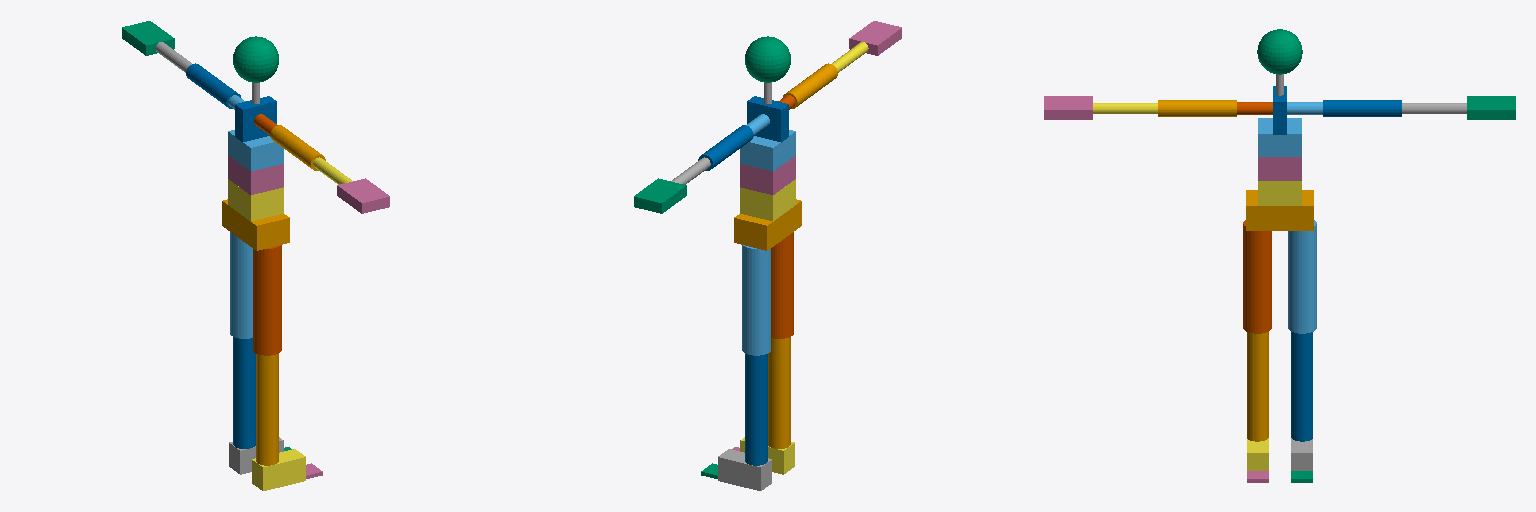
--- Facts derived from the render (not from the file) ---
3 views of the same robot in one strip: view 1: azimuth 30°, elevation 25°; view 2: azimuth 150°, elevation 25°; view 3: azimuth 270°, elevation 25° (orthographic).
Model XSensStyleModel_template with 67 links and 66 joints (66 revolute), rooted at Pelvis, posed all joints at 0.
Links seen in each view (by area): view 1: RightUpperLeg, RightLowerLeg, LeftLowerLeg, LeftUpperLeg, Pelvis, Head, RightFoot, T12, L5, L3, T8, RightHand (+4 smaller); view 2: LeftUpperLeg, LeftLowerLeg, RightLowerLeg, RightUpperLeg, Pelvis, Head, LeftFoot, T12, L5, L3, T8, LeftHand (+4 smaller); view 3: RightUpperLeg, LeftUpperLeg, RightLowerLeg, LeftLowerLeg, Pelvis, Head, T12, RightUpperArm, LeftUpperArm, RightHand, LeftHand, L5 (+6 smaller).
Link boxes in pixels (<box>): RightUpperLeg: <box>253,245,281,355</box>; RightLowerLeg: <box>256,354,278,465</box>; LeftLowerLeg: <box>233,337,255,448</box>; LeftUpperLeg: <box>230,232,252,338</box>; Pelvis: <box>222,199,289,250</box>; Head: <box>233,36,278,82</box>; RightFoot: <box>252,449,305,490</box>; T12: <box>228,130,283,171</box>; L5: <box>228,179,283,221</box>; L3: <box>228,155,283,194</box>; T8: <box>235,96,276,142</box>; RightHand: <box>337,178,389,213</box>; LeftUpperLeg: <box>742,245,770,355</box>; LeftLowerLeg: <box>745,354,767,465</box>; RightLowerLeg: <box>768,337,790,448</box>; RightUpperLeg: <box>771,232,793,338</box>; Pelvis: <box>734,199,801,250</box>; Head: <box>745,36,790,82</box>; LeftFoot: <box>718,449,771,490</box>; T12: <box>740,130,795,171</box>; L5: <box>740,179,795,221</box>; L3: <box>740,155,795,194</box>; T8: <box>747,96,788,142</box>; LeftHand: <box>634,178,686,213</box>; RightUpperLeg: <box>1243,220,1271,333</box>; LeftUpperLeg: <box>1288,220,1316,333</box>; RightLowerLeg: <box>1247,332,1268,441</box>; LeftLowerLeg: <box>1291,332,1312,441</box>; Pelvis: <box>1246,190,1313,230</box>; Head: <box>1257,29,1302,74</box>; T12: <box>1258,118,1301,156</box>; RightUpperArm: <box>1158,100,1236,116</box>; LeftUpperArm: <box>1323,100,1401,116</box>; RightHand: <box>1044,96,1092,119</box>; LeftHand: <box>1467,96,1515,119</box>; L5: <box>1258,181,1301,205</box>.
Size in the robot's own frame: 0.2804 by 1.67 by 1.68 metres.
Geometry: primitives only (box / cylinder / sphere), no mesh files.

The robot description file, URDF, robot "XSensStyleModel_template":
<robot name="XSensStyleModel_template">
<!--To open this model with Gazebo replace the null masses, inertias and dimensions of the 'fake links f1 and f2'-->
    <!--LINKS-->
	<!--Link base (1)-->
	<link name="Pelvis">
        <inertial>
            <mass value="4.9977"/>
			<!--COM origin wrt pHipOrigin-->
            <origin xyz="0           0    0.048589" rpy="0 0 0" />
            <inertia ixx="0.027785" iyy="0.011362" izz="0.031399" ixy="0" ixz="0" iyz="0"/>
        </inertial>

        <visual>
			<!--box origin wrt pHipOrigin-->
            <origin xyz="0           0    0.048589" rpy="0 0 0" />
            <geometry>
                <box size="0.13409     0.23961    0.096443"/>
            </geometry>
        </visual>

        <collision>
			<!--box origin wrt pHipOrigin-->
            <origin xyz="0           0    0.048589" rpy="0 0 0" />
            <geometry>
                <box size="0.13409     0.23961    0.096443"/>
            </geometry>
        </collision>

    </link>
    <!--Chain from (2) to (7)-->
	<link name="L5_f1">
        <inertial>
            <mass value="0.0001"/>
            <origin xyz="0 0 0" rpy="0 0 0" />
            <inertia ixx="0.0003" iyy="0.0003" izz="0.0003" ixy="0" ixz="0" iyz="0"/>
        </inertial>
    </link>
	<link name="L5_f2">
        <inertial>
            <mass value="0.0001"/>
            <origin xyz="0 0 0" rpy="0 0 0" />
            <inertia ixx="0.0003" iyy="0.0003" izz="0.0003" ixy="0" ixz="0" iyz="0"/>
        </inertial>
    </link>
	<link name="L5">
        <inertial>
            <mass value="6.3721"/>
			<!--COM origin wrt jL5S1-->
            <origin xyz="0           0    0.050322" rpy="0 0 0" />
            <inertia ixx="0.045364" iyy="0.034022" izz="0.067685" ixy="0" ixz="0" iyz="0"/>
        </inertial>

        <visual>
			<!--box origin origin wrt jL5S1-->
            <origin xyz="0           0    0.050322" rpy="0 0 0" />
            <geometry>
                <box size="0.13409     0.15843     0.10065"/>
            </geometry>
        </visual>

        <collision>
			<!--box origin origin wrt jL5S1-->
            <origin xyz="0           0    0.050322" rpy="0 0 0" />
            <geometry>
                <box size="0.13409     0.15843     0.10065"/>
            </geometry>
        </collision>
    </link>
	<link name="L3_f1">
        <inertial>
            <mass value="0.0001"/>
            <origin xyz="0 0 0" rpy="0 0 0" />
            <inertia ixx="0.0003" iyy="0.0003" izz="0.0003" ixy="0" ixz="0" iyz="0"/>
        </inertial>
    </link>
	<link name="L3_f2">
        <inertial>
            <mass value="0.0001"/>
            <origin xyz="0 0 0" rpy="0 0 0" />
            <inertia ixx="0.0003" iyy="0.0003" izz="0.0003" ixy="0" ixz="0" iyz="0"/>
        </inertial>
    </link>
	<link name="L3">
        <inertial>
            <mass value="6.3721"/>
			<!--COM origin wrt jL4L3-->
            <origin xyz="0           0    0.045465" rpy="0 0 0" />
            <inertia ixx="0.044375" iyy="0.033034" izz="0.067685" ixy="0" ixz="0" iyz="0"/>
        </inertial>

        <visual>
			<!--box origin origin wrt jL4L3-->
            <origin xyz="0           0    0.045465" rpy="0 0 0" />
            <geometry>
                <box size="0.13409     0.15843     0.09093"/>
            </geometry>
        </visual>

        <collision>
			<!--box origin origin wrt jL4L3-->
            <origin xyz="0           0    0.045465" rpy="0 0 0" />
            <geometry>
                <box size="0.13409     0.15843     0.09093"/>
            </geometry>
        </collision>
    </link>
	<link name="T12_f1">
        <inertial>
            <mass value="0.0001"/>
            <origin xyz="0 0 0" rpy="0 0 0" />
            <inertia ixx="0.0003" iyy="0.0003" izz="0.0003" ixy="0" ixz="0" iyz="0"/>
        </inertial>
    </link>
	<link name="T12_f2">
        <inertial>
            <mass value="0.0001"/>
            <origin xyz="0 0 0" rpy="0 0 0" />
            <inertia ixx="0.0003" iyy="0.0003" izz="0.0003" ixy="0" ixz="0" iyz="0"/>
        </inertial>
    </link>
	<link name="T12">
        <inertial>
            <mass value="6.3721"/>
			<!--COM origin wrt jL1T12-->
            <origin xyz="0           0    0.045465" rpy="0 0 0" />
            <inertia ixx="0.044375" iyy="0.033034" izz="0.067685" ixy="0" ixz="0" iyz="0"/>
        </inertial>

        <visual>
			<!--box origin origin wrt jL1T12-->
            <origin xyz="0           0    0.045465" rpy="0 0 0" />
            <geometry>
                <box size="0.13409     0.15843     0.09093"/>
            </geometry>
        </visual>

        <collision>
			<!--box origin origin wrt jL1T12-->
            <origin xyz="0           0    0.045465" rpy="0 0 0" />
            <geometry>
                <box size="0.13409     0.15843     0.09093"/>
            </geometry>
        </collision>
    </link>
	<link name="T8_f1">
        <inertial>
            <mass value="0.0001"/>
            <origin xyz="0 0 0" rpy="0 0 0" />
            <inertia ixx="0.0003" iyy="0.0003" izz="0.0003" ixy="0" ixz="0" iyz="0"/>
        </inertial>
    </link>
	<link name="T8_f2">
        <inertial>
            <mass value="0.0001"/>
            <origin xyz="0 0 0" rpy="0 0 0" />
            <inertia ixx="0.0003" iyy="0.0003" izz="0.0003" ixy="0" ixz="0" iyz="0"/>
        </inertial>
    </link>
	<link name="T8">
        <inertial>
            <mass value="2.4989"/>
			<!--COM origin wrt jT9T8-->
            <origin xyz="0           0    0.062885" rpy="0 0 0" />
            <inertia ixx="0.0038682" iyy="0.0072774" izz="0.0045577" ixy="0" ixz="0" iyz="0"/>
        </inertial>

        <visual>
			<!--box origin wrt jT9T8-->
            <origin xyz="0           0    0.062885" rpy="0 0 0" />
            <geometry>
                <box size="0.13831    0.052514     0.12577"/>
            </geometry>
        </visual>

        <collision>
			<!--box origin wrt jT9T8-->
            <origin xyz="0           0    0.062885" rpy="0 0 0" />
            <geometry>
                <box size="0.13831    0.052514     0.12577"/>
            </geometry>
        </collision>

    </link>
	<link name="Neck_f1">
        <inertial>
            <mass value="0.0001"/>
            <origin xyz="0 0 0" rpy="0 0 0" />
            <inertia ixx="0.0003" iyy="0.0003" izz="0.0003" ixy="0" ixz="0" iyz="0"/>
        </inertial>
    </link>
	<link name="Neck_f2">
        <inertial>
            <mass value="0.0001"/>
            <origin xyz="0 0 0" rpy="0 0 0" />
            <inertia ixx="0.0003" iyy="0.0003" izz="0.0003" ixy="0" ixz="0" iyz="0"/>
        </inertial>
    </link>
	<link name="Neck">
        <inertial>
            <mass value="0.74966"/>
			<!--COM origin wrt jT1C7-->
            <origin xyz="0           0    0.042348" rpy="0 0 0" />
            <inertia ixx="0.00058963" iyy="0.00058963" izz="0.00028299" ixy="0" ixz="0" iyz="0"/>
        </inertial>

        <visual>
			<!--box origin wrt jT1C7-->
            <origin xyz="0           0    0.042348" rpy="0 0 0" />
            <geometry>
		<cylinder length="0.084696" radius="0.013739"/>
            </geometry>
        </visual>

        <collision>
			<!--box origin wrt jT1C7-->
            <origin xyz="0           0    0.042348" rpy="0 0 0" />
            <geometry>
                <cylinder length="0.084696" radius="0.013739"/>
            </geometry>
        </collision>
    </link>
	<link name="Head_f1">
        <inertial>
            <mass value="0.0001"/>
            <origin xyz="0 0 0" rpy="0 0 0" />
            <inertia ixx="0.0003" iyy="0.0003" izz="0.0003" ixy="0" ixz="0" iyz="0"/>
        </inertial>
    </link>
	<link name="Head_f2">
        <inertial>
            <mass value="0.0001"/>
            <origin xyz="0 0 0" rpy="0 0 0" />
            <inertia ixx="0.0003" iyy="0.0003" izz="0.0003" ixy="0" ixz="0" iyz="0"/>
        </inertial>
    </link>
	<link name="Head">
        <inertial>
            <mass value="2.249"/>
			<!--COM origin wrt jC1Head-->
            <origin xyz="0           0    0.080693" rpy="0 0 0" />
            <inertia ixx="0.0058575" iyy="0.0058575" izz="0.0058575" ixy="0" ixz="0" iyz="0"/>
        </inertial>

        <visual>
			<!--boc origin wrt jC1Head-->
            <origin xyz="0           0    0.080693" rpy="0 0 0" />
            <geometry>
                <sphere radius="0.080693"/>
            </geometry>
        </visual>

        <collision>
			<!--box origin wrt jC1Head-->
            <origin xyz="0           0    0.080693" rpy="0 0 0" />
            <geometry>
                <sphere radius="0.080693"/>
            </geometry>
        </collision>

    </link>
	<!--Chain from (8) to (11)-->
	<link name="RightShoulder_f1">
        <inertial>
            <mass value="0.0001"/>
            <origin xyz="0 0 0" rpy="0 0 0" />
            <inertia ixx="0.0003" iyy="0.0003" izz="0.0003" ixy="0" ixz="0" iyz="0"/>
        </inertial>
    </link>
	<link name="RightShoulder_f2">
        <inertial>
            <mass value="0.0001"/>
            <origin xyz="0 0 0" rpy="0 0 0" />
            <inertia ixx="0.0003" iyy="0.0003" izz="0.0003" ixy="0" ixz="0" iyz="0"/>
        </inertial>
    </link>
	<link name="RightShoulder">
        <inertial>
            <mass value="1.9366"/>
			<!--COM origin wrt jRightC7Shoulder-->
            <origin xyz="0   -0.063159           0" rpy="0 0 0" />
            <inertia ixx="0.0028285" iyy="0.00050664" izz="0.0028285" ixy="0" ixz="0" iyz="0"/>
        </inertial>

        <visual>
			<!--box origin wrt jRightC7Shoulder. RPY rotated of pi/2.-->
            <origin xyz="0   -0.063159           0" rpy="1.5708 0 0" />
            <geometry>
                <cylinder length="0.12632" radius="0.022874"/>
            </geometry>
        </visual>

        <collision>
			<!--box origin wrt jRightC7Shoulder. RPY rotated of pi/2.-->
            <origin xyz="0   -0.063159           0" rpy="1.5708 0 0" />
            <geometry>
                <cylinder length="0.12632" radius="0.022874"/>
            </geometry>
        </collision>

    </link>
	<link name="RightUpperArm_f1">
        <inertial>
            <mass value="0.0001"/>
            <origin xyz="0 0 0" rpy="0 0 0" />
            <inertia ixx="0.0003" iyy="0.0003" izz="0.0003" ixy="0" ixz="0" iyz="0"/>
        </inertial>
    </link>
	<link name="RightUpperArm_f2">
        <inertial>
            <mass value="0.0001"/>
            <origin xyz="0 0 0" rpy="0 0 0" />
            <inertia ixx="0.0003" iyy="0.0003" izz="0.0003" ixy="0" ixz="0" iyz="0"/>
        </inertial>
    </link>
    <link name="RightUpperArm">
        <inertial>
            <mass value="1.8741"/>
			<!--COM origin wrt jRightShoulder-->
            <origin xyz="0    -0.14042           0" rpy="0 0 0" />
            <inertia ixx="0.012753" iyy="0.012753" izz="0.00087191" ixy="0" ixz="0" iyz="0"/>
        </inertial>

        <visual>
			<!--box origin wrt jRightShoulder. RPY rotated of pi/2.-->
            <origin xyz="0    -0.14042           0" rpy="1.5708 0 0" />
            <geometry>
                <cylinder length="0.28083" radius="0.030503"/>
            </geometry>
        </visual>

        <collision>
			<!--box origin wrt jRightShoulder. RPY rotated of pi/2.-->
            <origin xyz="0    -0.14042           0" rpy="1.5708 0 0" />
            <geometry>
                <cylinder length="0.28083" radius="0.030503"/>
            </geometry>
        </collision>

    </link>
	<link name="RightForeArm_f1">
        <inertial>
            <mass value="0.0001"/>
            <origin xyz="0 0 0" rpy="0 0 0" />
            <inertia ixx="0.0003" iyy="0.0003" izz="0.0003" ixy="0" ixz="0" iyz="0"/>
        </inertial>
    </link>
	<link name="RightForeArm_f2">
        <inertial>
            <mass value="0.0001"/>
            <origin xyz="0 0 0" rpy="0 0 0" />
            <inertia ixx="0.0003" iyy="0.0003" izz="0.0003" ixy="0" ixz="0" iyz="0"/>
        </inertial>
    </link>
	<link name="RightForeArm">
        <inertial>
            <mass value="1.2494"/>
			<!--COM origin wrt jRightElbow-->
            <origin xyz="0    -0.11509           0" rpy="0 0 0" />
            <inertia ixx="0.0056457" iyy="0.0056457" izz="0.00025834" ixy="0" ixz="0" iyz="0"/>
        </inertial>

        <visual>
			<!--box origin wrt jRightElbow. RPY rotated of pi/2.-->
            <origin xyz="0    -0.11509           0" rpy="1.5708 0 0" />
            <geometry>
                <cylinder length="0.23018" radius="0.020336"/>
            </geometry>
        </visual>

        <collision>
			<!--box origin wrt jRightElbow. RPY rotated of pi/2.-->
            <origin xyz="0    -0.11509           0" rpy="1.5708 0 0" />
            <geometry>
                <cylinder length="0.23018" radius="0.020336"/>
            </geometry>
        </collision>

    </link>
	<link name="RightHand_f1">
        <inertial>
            <mass value="0.0001"/>
            <origin xyz="0 0 0" rpy="0 0 0" />
            <inertia ixx="0.0003" iyy="0.0003" izz="0.0003" ixy="0" ixz="0" iyz="0"/>
        </inertial>
    </link>
	<link name="RightHand_f2">
        <inertial>
            <mass value="0.0001"/>
            <origin xyz="0 0 0" rpy="0 0 0" />
            <inertia ixx="0.0003" iyy="0.0003" izz="0.0003" ixy="0" ixz="0" iyz="0"/>
        </inertial>
    </link>
	<link name="RightHand">
        <inertial>
            <mass value="0.37483"/>
			<!--COM origin wrt jRightWrist-->
            <origin xyz="0   -0.086033           0" rpy="0 0 0" />
            <inertia ixx="0.00097647" iyy="0.00046269" izz="0.0013358" ixy="0" ixz="0" iyz="0"/>
        </inertial>

        <visual>
			<!--box origin wrt jRightWrist-->
            <origin xyz="0   -0.086033           0" rpy="0 0 0" />
            <geometry>
                <box size="0.11471     0.17207    0.040671"/>
            </geometry>
        </visual>

        <collision>
			<!--box origin wrt jRightWrist-->
            <origin xyz="0   -0.086033           0" rpy="0 0 0" />
            <geometry>
                <box size="0.11471     0.17207    0.040671"/>
            </geometry>
        </collision>

    </link>
	<!--Chain from (12) to (15)-->
	<link name="LeftShoulder_f1">
        <inertial>
            <mass value="0.0001"/>
            <origin xyz="0 0 0" rpy="0 0 0" />
            <inertia ixx="0.0003" iyy="0.0003" izz="0.0003" ixy="0" ixz="0" iyz="0"/>
        </inertial>
    </link>
	<link name="LeftShoulder_f2">
        <inertial>
            <mass value="0.0001"/>
            <origin xyz="0 0 0" rpy="0 0 0" />
            <inertia ixx="0.0003" iyy="0.0003" izz="0.0003" ixy="0" ixz="0" iyz="0"/>
        </inertial>
    </link>
	<link name="LeftShoulder">
        <inertial>
            <mass value="1.9366"/>
			<!--COM origin wrt jLeftC7Shoulder-->
            <origin xyz="0    0.063159           0" rpy="0 0 0" />
            <inertia ixx="0.0028285" iyy="0.00050664" izz="0.0028285" ixy="0" ixz="0" iyz="0"/>
        </inertial>

        <visual>
			<!--box origin wrt jLeftC7Shoulder. RPY rotated of pi/2.-->
            <origin xyz="0    0.063159           0" rpy="1.5708 0 0" />
            <geometry>
                <cylinder length="0.12632" radius="0.022874"/>
            </geometry>
        </visual>

        <collision>
			<!--box origin wrt jLeftC7Shoulder. RPY rotated of pi/2.-->
            <origin xyz="0    0.063159           0" rpy="1.5708 0 0" />
            <geometry>
                <cylinder length="0.12632" radius="0.022874"/>
            </geometry>
        </collision>

    </link>
	<link name="LeftUpperArm_f1">
        <inertial>
            <mass value="0.0001"/>
            <origin xyz="0 0 0" rpy="0 0 0" />
            <inertia ixx="0.0003" iyy="0.0003" izz="0.0003" ixy="0" ixz="0" iyz="0"/>
        </inertial>
    </link>
	<link name="LeftUpperArm_f2">
        <inertial>
            <mass value="0.0001"/>
            <origin xyz="0 0 0" rpy="0 0 0" />
            <inertia ixx="0.0003" iyy="0.0003" izz="0.0003" ixy="0" ixz="0" iyz="0"/>
        </inertial>
    </link>
	<link name="LeftUpperArm">
        <inertial>
            <mass value="1.8741"/>
			<!--COM origin wrt jLeftShoulder-->
            <origin xyz="0     0.14042           0" rpy="0 0 0" />
            <inertia ixx="0.012753" iyy="0.012753" izz="0.00087191" ixy="0" ixz="0" iyz="0"/>
        </inertial>

        <visual>
			<!--box origin wrt jLeftShoulder. RPY rotated of pi/2.-->
            <origin xyz="0     0.14042           0" rpy="1.5708 0 0" />
            <geometry>
                <cylinder length="0.28083" radius="0.030503"/>
            </geometry>
        </visual>

        <collision>
			<!--box origin wrt jLeftShoulder. RPY rotated of pi/2.-->
            <origin xyz="0     0.14042           0" rpy="1.5708 0 0" />
            <geometry>
                <cylinder length="0.28083" radius="0.030503"/>
            </geometry>
        </collision>

    </link>
	<link name="LeftForeArm_f1">
        <inertial>
            <mass value="0.0001"/>
            <origin xyz="0 0 0" rpy="0 0 0" />
            <inertia ixx="0.0003" iyy="0.0003" izz="0.0003" ixy="0" ixz="0" iyz="0"/>
        </inertial>
    </link>
	<link name="LeftForeArm_f2">
        <inertial>
            <mass value="0.0001"/>
            <origin xyz="0 0 0" rpy="0 0 0" />
            <inertia ixx="0.0003" iyy="0.0003" izz="0.0003" ixy="0" ixz="0" iyz="0"/>
        </inertial>
    </link>
	<link name="LeftForeArm">
        <inertial>
            <mass value="1.2494"/>
			<!--COM origin wrt jLeftElbow-->
            <origin xyz="0     0.11509           0" rpy="0 0 0" />
            <inertia ixx="0.0056457" iyy="0.0056457" izz="0.00025834" ixy="0" ixz="0" iyz="0"/>
        </inertial>

        <visual>
			<!--box origin wrt jLeftElbow. RPY rotated of pi/2.-->
            <origin xyz="0     0.11509           0" rpy="1.5708 0 0" />
            <geometry>
                <cylinder length="0.23018" radius="0.020336"/>
            </geometry>
        </visual>

        <collision>
			<!--box origin wrt jLeftElbow. RPY rotated of pi/2.-->
            <origin xyz="0     0.11509           0" rpy="1.5708 0 0" />
            <geometry>
                <cylinder length="0.23018" radius="0.020336"/>
            </geometry>
        </collision>

    </link>
	<link name="LeftHand_f1">
        <inertial>
            <mass value="0.0001"/>
            <origin xyz="0 0 0" rpy="0 0 0" />
            <inertia ixx="0.0003" iyy="0.0003" izz="0.0003" ixy="0" ixz="0" iyz="0"/>
        </inertial>
    </link>
	<link name="LeftHand_f2">
        <inertial>
            <mass value="0.0001"/>
            <origin xyz="0 0 0" rpy="0 0 0" />
            <inertia ixx="0.0003" iyy="0.0003" izz="0.0003" ixy="0" ixz="0" iyz="0"/>
        </inertial>
    </link>
	<link name="LeftHand">
        <inertial>
            <mass value="0.37483"/>
			<!--COM origin wrt jLeftWrist-->
            <origin xyz="0    0.086033           0" rpy="0 0 0" />
            <inertia ixx="0.00097647" iyy="0.00046269" izz="0.0013358" ixy="0" ixz="0" iyz="0"/>
        </inertial>

        <visual>
			<!--COM origin wrt jLeftWrist-->
            <origin xyz="0    0.086033           0" rpy="0 0 0" />
            <geometry>
                <box size="0.11471     0.17207    0.040671"/>
            </geometry>
        </visual>

        <collision>
			<!--COM origin wrt jLeftWrist-->
            <origin xyz="0    0.086033           0" rpy="0 0 0" />
            <geometry>
                <box size="0.11471     0.17207    0.040671"/>
            </geometry>
        </collision>

    </link>
	<!--Chain from (16) to (19)-->
	<link name="RightUpperLeg_f1">
        <inertial>
            <mass value="0.0001"/>
            <origin xyz="0 0 0" rpy="0 0 0" />
            <inertia ixx="0.0003" iyy="0.0003" izz="0.0003" ixy="0" ixz="0" iyz="0"/>
        </inertial>
    </link>
	<link name="RightUpperLeg_f2">
        <inertial>
            <mass value="0.0001"/>
            <origin xyz="0 0 0" rpy="0 0 0" />
            <inertia ixx="0.0003" iyy="0.0003" izz="0.0003" ixy="0" ixz="0" iyz="0"/>
        </inertial>
    </link>
    <link name="RightUpperLeg">
        <inertial>
            <mass value="7.8089"/>
			<!--COM origin wrt jRightHip-->
            <origin xyz="0           0    -0.20463" rpy="0 0 0" />
            <inertia ixx="0.11419" iyy="0.11419" izz="0.010394" ixy="0" ixz="0" iyz="0"/>
        </inertial>

        <visual>
			<!--box origin wrt jRightHip-->
            <origin xyz="0           0    -0.20463" rpy="0 0 0" />
            <geometry>
                <cylinder length="0.40926" radius="0.051595"/>
            </geometry>
        </visual>

        <collision>
			<!--box origin wrt jRightHip-->
            <origin xyz="0           0    -0.20463" rpy="0 0 0" />
            <geometry>
                <cylinder length="0.40926" radius="0.051595"/>
            </geometry>
        </collision>

    </link>
	<link name="RightLowerLeg_f1">
        <inertial>
            <mass value="0.0001"/>
            <origin xyz="0 0 0" rpy="0 0 0" />
            <inertia ixx="0.0003" iyy="0.0003" izz="0.0003" ixy="0" ixz="0" iyz="0"/>
        </inertial>
    </link>
	<link name="RightLowerLeg_f2">
        <inertial>
            <mass value="0.0001"/>
            <origin xyz="0 0 0" rpy="0 0 0" />
            <inertia ixx="0.0003" iyy="0.0003" izz="0.0003" ixy="0" ixz="0" iyz="0"/>
        </inertial>
    </link>
    <link name="RightLowerLeg">
        <inertial>
            <mass value="2.2802"/>
			<!--COM origin wrt jRightKnee-->
            <origin xyz="0           0    -0.21406" rpy="0 0 0" />
            <inertia ixx="0.035707" iyy="0.035707" izz="0.0017603" ixy="0" ixz="0" iyz="0"/>
        </inertial>

        <visual>
			<!--box origin wrt jRightKnee-->
            <origin xyz="0           0    -0.21406" rpy="0 0 0" />
            <geometry>
                <cylinder length="0.42811" radius="0.039293"/>
            </geometry>
        </visual>

        <collision>
			<!--box origin wrt jRightKnee-->
            <origin xyz="0           0    -0.21406" rpy="0 0 0" />
            <geometry>
                <cylinder length="0.42811" radius="0.039293"/>
            </geometry>
        </collision>

    </link>
	<link name="RightFoot_f1">
        <inertial>
            <mass value="0.0001"/>
            <origin xyz="0 0 0" rpy="0 0 0" />
            <inertia ixx="0.0003" iyy="0.0003" izz="0.0003" ixy="0" ixz="0" iyz="0"/>
        </inertial>
    </link>
	<link name="RightFoot_f2">
        <inertial>
            <mass value="0.0001"/>
            <origin xyz="0 0 0" rpy="0 0 0" />
            <inertia ixx="0.0003" iyy="0.0003" izz="0.0003" ixy="0" ixz="0" iyz="0"/>
        </inertial>
    </link>
    <link name="RightFoot">
        <inertial>
            <mass value="0.81213"/>
			<!--COM origin wrt jRightAnkle-->
            <origin xyz="0.047341           0   -0.045923" rpy="0 0 0" />
            <inertia ixx="0.00098889" iyy="0.0026169" izz="0.002464" ixy="0" ixz="0" iyz="0"/>
        </inertial>

        <visual>
			<!--box origin wrt jRightAnkle-->
	    	<origin xyz="0.047341           0   -0.045923" rpy="0 0 0" />
            <geometry>
                <box size="0.17387    0.078587    0.091847"/>
            </geometry>
        </visual>

        <collision>
			<!--box origin wrt jRightAnkle-->
		    <origin xyz="0.047341           0   -0.045923" rpy="0 0 0" />
	            <geometry>
	                <box size="0.17387    0.078587    0.091847"/>
	            </geometry>
        </collision>

    </link>
	<link name="RightToe_f1">
        <inertial>
            <mass value="0.0001"/>
            <origin xyz="0 0 0" rpy="0 0 0" />
            <inertia ixx="0.0003" iyy="0.0003" izz="0.0003" ixy="0" ixz="0" iyz="0"/>
        </inertial>
    </link>
	<link name="RightToe_f2">
        <inertial>
            <mass value="0.0001"/>
            <origin xyz="0 0 0" rpy="0 0 0" />
            <inertia ixx="0.0003" iyy="0.0003" izz="0.0003" ixy="0" ixz="0" iyz="0"/>
        </inertial>
    </link>
    <link name="RightToe">
        <inertial>
            <mass value="0.093707"/>
			<!--COM origin wrt jRightBallFoot-->
            <origin xyz="0.033062           0           0" rpy="0 0 0" />
            <inertia ixx="4.9912e-05" iyy="3.5828e-05" izz="8.237e-05" ixy="0" ixz="0" iyz="0"/>
        </inertial>

        <visual>
			<!--box origin wrt jRightBallFoot-->
            <origin xyz="0.033062           0           0" rpy="0 0 0" />
            <geometry>
                <box size="0.066123    0.078587    0.014689"/>
            </geometry>
        </visual>

        <collision>
			<!--box origin wrt jRightBallFoot-->
            <origin xyz="0.033062           0           0" rpy="0 0 0" />
            <geometry>
                <box size="0.066123    0.078587    0.014689"/>
            </geometry>
        </collision>
    </link>
	<!--Chain from (20) to (23)-->
	<link name="LeftUpperLeg_f1">
        <inertial>
            <mass value="0.0001"/>
            <origin xyz="0 0 0" rpy="0 0 0" />
            <inertia ixx="0.0003" iyy="0.0003" izz="0.0003" ixy="0" ixz="0" iyz="0"/>
        </inertial>
    </link>
	<link name="LeftUpperLeg_f2">
        <inertial>
            <mass value="0.0001"/>
            <origin xyz="0 0 0" rpy="0 0 0" />
            <inertia ixx="0.0003" iyy="0.0003" izz="0.0003" ixy="0" ixz="0" iyz="0"/>
        </inertial>
    </link>
    <link name="LeftUpperLeg">
        <inertial>
            <mass value="7.8089"/>
			<!--COM origin wrt jLeftHip-->
            <origin xyz="0           0    -0.20463" rpy="0 0 0" />
            <inertia ixx="0.11419" iyy="0.11419" izz="0.010394" ixy="0" ixz="0" iyz="0"/>
        </inertial>

        <visual>
			<!--box origin wrt jLeftHip-->
            <origin xyz="0           0    -0.20463" rpy="0 0 0" />
            <geometry>
                <cylinder length="0.40926" radius="-0.051595"/>
            </geometry>
        </visual>

        <collision>
			<!--box origin wrt jLeftHip-->
            <origin xyz="0           0    -0.20463" rpy="0 0 0" />
            <geometry>
                <cylinder length="0.40926" radius="-0.051595"/>
            </geometry>
        </collision>

    </link>
	<link name="LeftLowerLeg_f1">
        <inertial>
            <mass value="0.0001"/>
            <origin xyz="0 0 0" rpy="0 0 0" />
            <inertia ixx="0.0003" iyy="0.0003" izz="0.0003" ixy="0" ixz="0" iyz="0"/>
        </inertial>
    </link>
	<link name="LeftLowerLeg_f2">
        <inertial>
            <mass value="0.0001"/>
            <origin xyz="0 0 0" rpy="0 0 0" />
            <inertia ixx="0.0003" iyy="0.0003" izz="0.0003" ixy="0" ixz="0" iyz="0"/>
        </inertial>
    </link>
	<link name="LeftLowerLeg">
        <inertial>
            <mass value="2.2802"/>
			<!--COM origin wrt jLeftKnee-->
            <origin xyz="0           0    -0.21406" rpy="0 0 0" />
            <inertia ixx="0.035707" iyy="0.035707" izz="0.0017603" ixy="0" ixz="0" iyz="0"/>
        </inertial>

        <visual>
			<!--box origin wrt jLeftKnee-->
            <origin xyz="0           0    -0.21406" rpy="0 0 0" />
            <geometry>
		<cylinder length="0.42811" radius="0.039293"/>
            </geometry>
        </visual>

        <collision>
			<!--box origin wrt jLeftKnee-->
            <origin xyz="0           0    -0.21406" rpy="0 0 0" />
            <geometry>
		<cylinder length="0.42811" radius="0.039293"/>
            </geometry>
        </collision>

    </link>
	<link name="LeftFoot_f1">
        <inertial>
            <mass value="0.0001"/>
            <origin xyz="0 0 0" rpy="0 0 0" />
            <inertia ixx="0.0003" iyy="0.0003" izz="0.0003" ixy="0" ixz="0" iyz="0"/>
        </inertial>
    </link>
	<link name="LeftFoot_f2">
        <inertial>
            <mass value="0.0001"/>
            <origin xyz="0 0 0" rpy="0 0 0" />
            <inertia ixx="0.0003" iyy="0.0003" izz="0.0003" ixy="0" ixz="0" iyz="0"/>
        </inertial>
    </link>
    <link name="LeftFoot">
        <inertial>
            <mass value="0.81213"/>
			<!--COM origin wrt jLeftAnkle-->
            <origin xyz="0.047341           0   -0.045923" rpy="0 0 0" />
            <inertia ixx="0.00098889" iyy="0.0026169" izz="0.002464" ixy="0" ixz="0" iyz="0"/>
        </inertial>

        <visual>
			<!--box origin wrt jLeftAnkle-->
	   	 	<origin xyz="0.047341           0   -0.045923" rpy="0 0 0" />
            <geometry>
                <box size="0.17387    0.078587    0.091847"/>
            </geometry>
        </visual>

        <collision>
			<!--box origin wrt jLeftAnkle-->
		    <origin xyz="0.047341           0   -0.045923" rpy="0 0 0" />
	            <geometry>
	                <box size="0.17387    0.078587    0.091847"/>
	            </geometry>
        </collision>

    </link>
	<link name="LeftToe_f1">
        <inertial>
            <mass value="0.0001"/>
            <origin xyz="0 0 0" rpy="0 0 0" />
            <inertia ixx="0.0003" iyy="0.0003" izz="0.0003" ixy="0" ixz="0" iyz="0"/>
        </inertial>
    </link>
	<link name="LeftToe_f2">
        <inertial>
            <mass value="0.0001"/>
            <origin xyz="0 0 0" rpy="0 0 0" />
            <inertia ixx="0.0003" iyy="0.0003" izz="0.0003" ixy="0" ixz="0" iyz="0"/>
        </inertial>
    </link>
	<link name="LeftToe">
        <inertial>
            <mass value="0.093707"/>
			<!--COM origin wrt jLeftBallFoot-->
            <origin xyz="0.033062           0           0" rpy="0 0 0" />
            <inertia ixx="4.9912e-05" iyy="3.5828e-05" izz="8.237e-05" ixy="0" ixz="0" iyz="0"/>
        </inertial>

        <visual>
			<!--box origin wrt jLeftBallFoot-->
            <origin xyz="0.033062           0           0" rpy="0 0 0" />
            <geometry>
                <box size="0.066123    0.078587    0.014689"/>
            </geometry>
        </visual>

        <collision>
			<!--box origin wrt jLeftBallFoot-->
            <origin xyz="0.033062           0           0" rpy="0 0 0" />
            <geometry>
                <box size="0.066123    0.078587    0.014689"/>
            </geometry>
        </collision>
    </link>


	<!--JOINTS-->
	<!--Chain from (2) to (7)-->
	<joint name="jL5S1_rotx" type="revolute">
        <origin xyz="-7.5e-05           0     0.09681" rpy="0 0 0"/>
        <parent link="Pelvis"/>
        <child link="L5_f1"/>
        <dynamics damping="0.1" friction="0.0"/>
        <limit effort="30" velocity="1.0" lower="-10.0" upper="10.0" />
        <axis xyz="1 0 0" />
    </joint>
	<joint name="jL5S1_roty" type="revolute">
        <origin xyz="0 0 0" rpy="0 0 0"/>
        <parent link="L5_f1"/>
        <child link="L5_f2"/>
        <dynamics damping="0.1" friction="0.0"/>
        <limit effort="30" velocity="1.0" lower="-10.0" upper="10.0" />
        <axis xyz="0 1 0" />
    </joint>
    <joint name="jL5S1_rotz" type="revolute">
        <origin xyz="0 0 0" rpy="0 0 0"/>
        <parent link="L5_f2"/>
        <child link="L5"/>
        <dynamics damping="0.1" friction="0.0"/>
        <limit effort="30" velocity="1.0" lower="-10.0" upper="10.0" />
        <axis xyz="0 0 1" />
    </joint>
	<joint name="jL4L3_rotx" type="revolute">
        <origin xyz="0.000136           0     0.10065" rpy="0 0 0"/>
        <parent link="L5"/>
        <child link="L3_f1"/>
        <dynamics damping="0.1" friction="0.0"/>
        <limit effort="30" velocity="1.0" lower="-10.0" upper="10.0" />
        <axis xyz="1 0 0" />
    </joint>
	<joint name="jL4L3_roty" type="revolute">
        <origin xyz="0 0 0" rpy="0 0 0"/>
        <parent link="L3_f1"/>
        <child link="L3_f2"/>
        <dynamics damping="0.1" friction="0.0"/>
        <limit effort="30" velocity="1.0" lower="-10.0" upper="10.0" />
        <axis xyz="0 1 0" />
    </joint>
    <joint name="jL4L3_rotz" type="revolute">
        <origin xyz="0 0 0" rpy="0 0 0"/>
        <parent link="L3_f2"/>
        <child link="L3"/>
        <dynamics damping="0.1" friction="0.0"/>
        <limit effort="30" velocity="1.0" lower="-10.0" upper="10.0" />
        <axis xyz="0 0 1" />
    </joint>
	<joint name="jL1T12_rotx" type="revolute">
        <origin xyz="0           0     0.09093" rpy="0 0 0"/>
        <parent link="L3"/>
        <child link="T12_f1"/>
        <dynamics damping="0.1" friction="0.0"/>
        <limit effort="30" velocity="1.0" lower="-10.0" upper="10.0" />
        <axis xyz="1 0 0" />
    </joint>
	<joint name="jL1T12_roty" type="revolute">
        <origin xyz="0 0 0" rpy="0 0 0"/>
        <parent link="T12_f1"/>
        <child link="T12_f2"/>
        <dynamics damping="0.1" friction="0.0"/>
        <limit effort="30" velocity="1.0" lower="-10.0" upper="10.0" />
        <axis xyz="0 1 0" />
    </joint>
    <joint name="jL1T12_rotz" type="revolute">
        <origin xyz="0 0 0" rpy="0 0 0"/>
        <parent link="T12_f2"/>
        <child link="T12"/>
        <dynamics damping="0.1" friction="0.0"/>
        <limit effort="30" velocity="1.0" lower="-10.0" upper="10.0" />
        <axis xyz="0 0 1" />
    </joint>
	<joint name="jT9T8_rotx" type="revolute">
        <origin xyz="0           0     0.09093" rpy="0 0 0"/>
        <parent link="T12"/>
        <child link="T8_f1"/>
        <dynamics damping="0.1" friction="0.0"/>
        <limit effort="30" velocity="1.0" lower="-10.0" upper="10.0" />
        <axis xyz="1 0 0" />
    </joint>
	<joint name="jT9T8_roty" type="revolute">
        <origin xyz="0 0 0" rpy="0 0 0"/>
        <parent link="T8_f1"/>
        <child link="T8_f2"/>
        <dynamics damping="0.1" friction="0.0"/>
        <limit effort="30" velocity="1.0" lower="-10.0" upper="10.0" />
        <axis xyz="0 1 0" />
    </joint>
    <joint name="jT9T8_rotz" type="revolute">
        <origin xyz="0 0 0" rpy="0 0 0"/>
        <parent link="T8_f2"/>
        <child link="T8"/>
        <dynamics damping="0.1" friction="0.0"/>
        <limit effort="30" velocity="1.0" lower="-10.0" upper="10.0" />
        <axis xyz="0 0 1" />
    </joint>
	<joint name="jT1C7_rotx" type="revolute">
        <origin xyz="0           0     0.12577" rpy="0 0 0"/>
        <parent link="T8"/>
        <child link="Neck_f1"/>
        <dynamics damping="0.1" friction="0.0"/>
        <limit effort="30" velocity="1.0" lower="-10.0" upper="10.0" />
        <axis xyz="1 0 0" />
    </joint>
	<joint name="jT1C7_roty" type="revolute">
        <origin xyz="0 0 0" rpy="0 0 0"/>
        <parent link="Neck_f1"/>
        <child link="Neck_f2"/>
        <dynamics damping="0.1" friction="0.0"/>
        <limit effort="30" velocity="1.0" lower="-10.0" upper="10.0" />
        <axis xyz="0 1 0" />
    </joint>
    <joint name="jT1C7_rotz" type="revolute">
        <origin xyz="0 0 0" rpy="0 0 0"/>
        <parent link="Neck_f2"/>
        <child link="Neck"/>
        <dynamics damping="0.1" friction="0.0"/>
        <limit effort="30" velocity="1.0" lower="-10.0" upper="10.0" />
        <axis xyz="0 0 1" />
    </joint>
	<joint name="jC1Head_rotx" type="revolute">
        <origin xyz="0.000323           0    0.084696" rpy="0 0 0"/>
        <parent link="Neck"/>
        <child link="Head_f1"/>
        <dynamics damping="0.1" friction="0.0"/>
        <limit effort="30" velocity="1.0" lower="-10.0" upper="10.0" />
        <axis xyz="1 0 0" />
    </joint>
	<joint name="jC1Head_roty" type="revolute">
        <origin xyz="0 0 0" rpy="0 0 0"/>
        <parent link="Head_f1"/>
        <child link="Head_f2"/>
        <dynamics damping="0.1" friction="0.0"/>
        <limit effort="30" velocity="1.0" lower="-10.0" upper="10.0" />
        <axis xyz="0 1 0" />
    </joint>
    <joint name="jC1Head_rotz" type="revolute">
        <origin xyz="0 0 0" rpy="0 0 0"/>
        <parent link="Head_f2"/>
        <child link="Head"/>
        <dynamics damping="0.1" friction="0.0"/>
        <limit effort="30" velocity="1.0" lower="-10.0" upper="10.0" />
        <axis xyz="0 0 1" />
    </joint>
	<!--Chain from (8) to (11)-->
	<joint name="jRightC7Shoulder_rotx" type="revolute">
        <origin xyz="0   -0.026257    0.070261" rpy="0 0 0"/>
        <parent link="T8"/>
        <child link="RightShoulder_f1"/>
        <dynamics damping="0.1" friction="0.0"/>
        <limit effort="30" velocity="1.0" lower="-10.0" upper="10.0" />
        <axis xyz="1 0 0" />
    </joint>
	<joint name="jRightC7Shoulder_roty" type="revolute">
        <origin xyz="0 0 0" rpy="0 0 0"/>
        <parent link="RightShoulder_f1"/>
        <child link="RightShoulder_f2"/>
        <dynamics damping="0.1" friction="0.0"/>
        <limit effort="30" velocity="1.0" lower="-10.0" upper="10.0" />
        <axis xyz="0 1 0" />
    </joint>
    <joint name="jRightC7Shoulder_rotz" type="revolute">
        <origin xyz="0 0 0" rpy="0 0 0"/>
        <parent link="RightShoulder_f2"/>
        <child link="RightShoulder"/>
        <dynamics damping="0.1" friction="0.0"/>
        <limit effort="30" velocity="1.0" lower="-10.0" upper="10.0" />
        <axis xyz="0 0 1" />
    </joint>
	<joint name="jRightShoulder_rotx" type="revolute">
        <origin xyz="0    -0.12632           0" rpy="0 0 0"/>
        <parent link="RightShoulder"/>
        <child link="RightUpperArm_f1"/>
        <dynamics damping="0.1" friction="0.0"/>
        <limit effort="30" velocity="1.0" lower="-10.0" upper="10.0" />
        <axis xyz="1 0 0" />
    </joint>
	<joint name="jRightShoulder_roty" type="revolute">
        <origin xyz="0 0 0" rpy="0 0 0"/>
        <parent link="RightUpperArm_f1"/>
        <child link="RightUpperArm_f2"/>
        <dynamics damping="0.1" friction="0.0"/>
        <limit effort="30" velocity="1.0" lower="-10.0" upper="10.0" />
        <axis xyz="0 1 0" />
    </joint>
    <joint name="jRightShoulder_rotz" type="revolute">
        <origin xyz="0 0 0" rpy="0 0 0"/>
        <parent link="RightUpperArm_f2"/>
        <child link="RightUpperArm"/>
        <dynamics damping="0.1" friction="0.0"/>
        <limit effort="30" velocity="1.0" lower="-10.0" upper="10.0" />
        <axis xyz="0 0 1" />
    </joint>
	<joint name="jRightElbow_rotx" type="revolute">
        <origin xyz="0    -0.28083           0" rpy="0 0 0"/>
        <parent link="RightUpperArm"/>
        <child link="RightForeArm_f1"/>
        <dynamics damping="0.1" friction="0.0"/>
        <limit effort="30" velocity="1.0" lower="-10.0" upper="10.0" />
        <axis xyz="1 0 0" />
    </joint>
	<joint name="jRightElbow_roty" type="revolute">
        <origin xyz="0 0 0" rpy="0 0 0"/>
        <parent link="RightForeArm_f1"/>
        <child link="RightForeArm_f2"/>
        <dynamics damping="0.1" friction="0.0"/>
        <limit effort="30" velocity="1.0" lower="-10.0" upper="10.0" />
        <axis xyz="0 1 0" />
    </joint>
    <joint name="jRightElbow_rotz" type="revolute">
        <origin xyz="0 0 0" rpy="0 0 0"/>
        <parent link="RightForeArm_f2"/>
        <child link="RightForeArm"/>
        <dynamics damping="0.1" friction="0.0"/>
        <limit effort="30" velocity="1.0" lower="-10.0" upper="10.0" />
        <axis xyz="0 0 1" />
    </joint>
	<joint name="jRightWrist_rotx" type="revolute">
        <origin xyz="3e-05    -0.23018           0" rpy="0 0 0"/>
        <parent link="RightForeArm"/>
        <child link="RightHand_f1"/>
        <dynamics damping="0.1" friction="0.0"/>
        <limit effort="30" velocity="1.0" lower="-10.0" upper="10.0" />
        <axis xyz="1 0 0" />
    </joint>
	<joint name="jRightWrist_roty" type="revolute">
        <origin xyz="0 0 0" rpy="0 0 0"/>
        <parent link="RightHand_f1"/>
        <child link="RightHand_f2"/>
        <dynamics damping="0.1" friction="0.0"/>
        <limit effort="30" velocity="1.0" lower="-10.0" upper="10.0" />
        <axis xyz="0 1 0" />
    </joint>
    <joint name="jRightWrist_rotz" type="revolute">
        <origin xyz="0 0 0" rpy="0 0 0"/>
        <parent link="RightHand_f2"/>
        <child link="RightHand"/>
        <dynamics damping="0.1" friction="0.0"/>
        <limit effort="30" velocity="1.0" lower="-10.0" upper="10.0" />
        <axis xyz="0 0 1" />
    </joint>
	<!--Chain from (12) to (15)-->
	<joint name="jLeftC7Shoulder_rotx" type="revolute">
        <origin xyz="0    0.026257    0.070261" rpy="0 0 0"/>
        <parent link="T8"/>
        <child link="LeftShoulder_f1"/>
        <dynamics damping="0.1" friction="0.0"/>
        <limit effort="30" velocity="1.0" lower="-10.0" upper="10.0" />
        <axis xyz="1 0 0" />
    </joint>
	<joint name="jLeftC7Shoulder_roty" type="revolute">
        <origin xyz="0 0 0" rpy="0 0 0"/>
        <parent link="LeftShoulder_f1"/>
        <child link="LeftShoulder_f2"/>
        <dynamics damping="0.1" friction="0.0"/>
        <limit effort="30" velocity="1.0" lower="-10.0" upper="10.0" />
        <axis xyz="0 1 0" />
    </joint>
    <joint name="jLeftC7Shoulder_rotz" type="revolute">
        <origin xyz="0 0 0" rpy="0 0 0"/>
        <parent link="LeftShoulder_f2"/>
        <child link="LeftShoulder"/>
        <dynamics damping="0.1" friction="0.0"/>
        <limit effort="30" velocity="1.0" lower="-10.0" upper="10.0" />
        <axis xyz="0 0 1" />
    </joint>
	<joint name="jLeftShoulder_rotx" type="revolute">
        <origin xyz="0     0.12632           0" rpy="0 0 0"/>
        <parent link="LeftShoulder"/>
        <child link="LeftUpperArm_f1"/>
        <dynamics damping="0.1" friction="0.0"/>
        <limit effort="30" velocity="1.0" lower="-10.0" upper="10.0" />
        <axis xyz="1 0 0" />
    </joint>
	<joint name="jLeftShoulder_roty" type="revolute">
        <origin xyz="0 0 0" rpy="0 0 0"/>
        <parent link="LeftUpperArm_f1"/>
        <child link="LeftUpperArm_f2"/>
        <dynamics damping="0.1" friction="0.0"/>
        <limit effort="30" velocity="1.0" lower="-10.0" upper="10.0" />
        <axis xyz="0 1 0" />
    </joint>
    <joint name="jLeftShoulder_rotz" type="revolute">
        <origin xyz="0 0 0" rpy="0 0 0"/>
        <parent link="LeftUpperArm_f2"/>
        <child link="LeftUpperArm"/>
        <dynamics damping="0.1" friction="0.0"/>
        <limit effort="30" velocity="1.0" lower="-10.0" upper="10.0" />
        <axis xyz="0 0 1" />
    </joint>
    <joint name="jLeftElbow_rotx" type="revolute">
        <origin xyz="0     0.28083           0" rpy="0 0 0"/>
        <parent link="LeftUpperArm"/>
        <child link="LeftForeArm_f1"/>
        <dynamics damping="0.1" friction="0.0"/>
        <limit effort="30" velocity="1.0" lower="-10.0" upper="10.0" />
        <axis xyz="1 0 0" />
    </joint>
	<joint name="jLeftElbow_roty" type="revolute">
        <origin xyz="0 0 0" rpy="0 0 0"/>
        <parent link="LeftForeArm_f1"/>
        <child link="LeftForeArm_f2"/>
        <dynamics damping="0.1" friction="0.0"/>
        <limit effort="30" velocity="1.0" lower="-10.0" upper="10.0" />
        <axis xyz="0 1 0" />
    </joint>
    <joint name="jLeftElbow_rotz" type="revolute">
        <origin xyz="0 0 0" rpy="0 0 0"/>
        <parent link="LeftForeArm_f2"/>
        <child link="LeftForeArm"/>
        <dynamics damping="0.1" friction="0.0"/>
        <limit effort="30" velocity="1.0" lower="-10.0" upper="10.0" />
        <axis xyz="0 0 1" />
    </joint>
	<joint name="jLeftWrist_rotx" type="revolute">
        <origin xyz="3e-05     0.23018           0" rpy="0 0 0"/>
        <parent link="LeftForeArm"/>
        <child link="LeftHand_f1"/>
        <dynamics damping="0.1" friction="0.0"/>
        <limit effort="30" velocity="1.0" lower="-10.0" upper="10.0" />
        <axis xyz="1 0 0" />
    </joint>
	<joint name="jLeftWrist_roty" type="revolute">
        <origin xyz="0 0 0" rpy="0 0 0"/>
        <parent link="LeftHand_f1"/>
        <child link="LeftHand_f2"/>
        <dynamics damping="0.1" friction="0.0"/>
        <limit effort="30" velocity="1.0" lower="-10.0" upper="10.0" />
        <axis xyz="0 1 0" />
    </joint>
    <joint name="jLeftWrist_rotz" type="revolute">
        <origin xyz="0 0 0" rpy="0 0 0"/>
        <parent link="LeftHand_f2"/>
        <child link="LeftHand"/>
        <dynamics damping="0.1" friction="0.0"/>
        <limit effort="30" velocity="1.0" lower="-10.0" upper="10.0" />
        <axis xyz="0 0 1" />
    </joint>
	<!--Chain from (16) to (19)-->
	<joint name="jRightHip_rotx" type="revolute">
        <origin xyz="3.7e-05   -0.079215    0.000367" rpy="0 0 0"/>
        <parent link="Pelvis"/>
        <child link="RightUpperLeg_f1"/>
        <dynamics damping="0.1" friction="0.0"/>
        <limit effort="30" velocity="1.0" lower="-10.0" upper="10.0" />
        <axis xyz="1 0 0" />
    </joint>
	<joint name="jRightHip_roty" type="revolute">
        <origin xyz="0 0 0" rpy="0 0 0"/>
        <parent link="RightUpperLeg_f1"/>
        <child link="RightUpperLeg_f2"/>
        <dynamics damping="0.1" friction="0.0"/>
        <limit effort="30" velocity="1.0" lower="-10.0" upper="10.0" />
        <axis xyz="0 1 0" />
    </joint>
    <joint name="jRightHip_rotz" type="revolute">
        <origin xyz="0 0 0" rpy="0 0 0"/>
        <parent link="RightUpperLeg_f2"/>
        <child link="RightUpperLeg"/>
        <dynamics damping="0.1" friction="0.0"/>
        <limit effort="30" velocity="1.0" lower="-10.0" upper="10.0" />
        <axis xyz="0 0 1" />
    </joint>
	<joint name="jRightKnee_rotx" type="revolute">
        <origin xyz="-2e-06           0    -0.40926" rpy="0 0 0"/>
        <parent link="RightUpperLeg"/>
        <child link="RightLowerLeg_f1"/>
        <dynamics damping="0.1" friction="0.0"/>
        <limit effort="30" velocity="1.0" lower="-10.0" upper="10.0" />
        <axis xyz="1 0 0" />
    </joint>
	<joint name="jRightKnee_roty" type="revolute">
        <origin xyz="0 0 0" rpy="0 0 0"/>
        <parent link="RightLowerLeg_f1"/>
        <child link="RightLowerLeg_f2"/>
        <dynamics damping="0.1" friction="0.0"/>
        <limit effort="30" velocity="1.0" lower="-10.0" upper="10.0" />
        <axis xyz="0 1 0" />
    </joint>
    <joint name="jRightKnee_rotz" type="revolute">
        <origin xyz="0 0 0" rpy="0 0 0"/>
        <parent link="RightLowerLeg_f2"/>
        <child link="RightLowerLeg"/>
        <dynamics damping="0.1" friction="0.0"/>
        <limit effort="30" velocity="1.0" lower="-10.0" upper="10.0" />
        <axis xyz="0 0 1" />
    </joint>
	<joint name="jRightAnkle_rotx" type="revolute">
        <origin xyz="-0.000373           0    -0.42811" rpy="0 0 0"/>
        <parent link="RightLowerLeg"/>
        <child link="RightFoot_f1"/>
        <dynamics damping="0.1" friction="0.0"/>
        <limit effort="30" velocity="1.0" lower="-10.0" upper="10.0" />
        <axis xyz="1 0 0" />
    </joint>
	<joint name="jRightAnkle_roty" type="revolute">
        <origin xyz="0 0 0" rpy="0 0 0"/>
        <parent link="RightFoot_f1"/>
        <child link="RightFoot_f2"/>
        <dynamics damping="0.1" friction="0.0"/>
        <limit effort="30" velocity="1.0" lower="-10.0" upper="10.0" />
        <axis xyz="0 1 0" />
    </joint>
    <joint name="jRightAnkle_rotz" type="revolute">
        <origin xyz="0 0 0" rpy="0 0 0"/>
        <parent link="RightFoot_f2"/>
        <child link="RightFoot"/>
        <dynamics damping="0.1" friction="0.0"/>
        <limit effort="30" velocity="1.0" lower="-10.0" upper="10.0" />
        <axis xyz="0 0 1" />
    </joint>
	<joint name="jRightBallFoot_rotx" type="revolute">
        <origin xyz="0.13428           0   -0.078689" rpy="0 0 0"/>
        <parent link="RightFoot"/>
        <child link="RightToe_f1"/>
        <dynamics damping="0.1" friction="0.0"/>
        <limit effort="30" velocity="1.0" lower="-10.0" upper="10.0" />
        <axis xyz="1 0 0" />
    </joint>
	<joint name="jRightBallFoot_roty" type="revolute">
        <origin xyz="0 0 0" rpy="0 0 0"/>
        <parent link="RightToe_f1"/>
        <child link="RightToe_f2"/>
        <dynamics damping="0.1" friction="0.0"/>
        <limit effort="30" velocity="1.0" lower="-10.0" upper="10.0" />
        <axis xyz="0 1 0" />
    </joint>
    <joint name="jRightBallFoot_rotz" type="revolute">
        <origin xyz="0 0 0" rpy="0 0 0"/>
        <parent link="RightToe_f2"/>
        <child link="RightToe"/>
        <dynamics damping="0.1" friction="0.0"/>
        <limit effort="30" velocity="1.0" lower="-10.0" upper="10.0" />
        <axis xyz="0 0 1" />
    </joint>
	<!--Chain from (20) to (23)-->
	<joint name="jLeftHip_rotx" type="revolute">
        <origin xyz="3.7e-05    0.079215    0.000367" rpy="0 0 0"/>
        <parent link="Pelvis"/>
        <child link="LeftUpperLeg_f1"/>
        <dynamics damping="0.1" friction="0.0"/>
        <limit effort="30" velocity="1.0" lower="-10.0" upper="10.0" />
        <axis xyz="1 0 0" />
    </joint>
	<joint name="jLeftHip_roty" type="revolute">
        <origin xyz="0 0 0" rpy="0 0 0"/>
        <parent link="LeftUpperLeg_f1"/>
        <child link="LeftUpperLeg_f2"/>
        <dynamics damping="0.1" friction="0.0"/>
        <limit effort="30" velocity="1.0" lower="-10.0" upper="10.0" />
        <axis xyz="0 1 0" />
    </joint>
    <joint name="jLeftHip_rotz" type="revolute">
        <origin xyz="0 0 0" rpy="0 0 0"/>
        <parent link="LeftUpperLeg_f2"/>
        <child link="LeftUpperLeg"/>
        <dynamics damping="0.1" friction="0.0"/>
        <limit effort="30" velocity="1.0" lower="-10.0" upper="10.0" />
        <axis xyz="0 0 1" />
    </joint>
	<joint name="jLeftKnee_rotx" type="revolute">
        <origin xyz="-2e-06           0    -0.40926" rpy="0 0 0"/>
        <parent link="LeftUpperLeg"/>
        <child link="LeftLowerLeg_f1"/>
        <dynamics damping="0.1" friction="0.0"/>
        <limit effort="30" velocity="1.0" lower="-10.0" upper="10.0" />
        <axis xyz="1 0 0" />
    </joint>
	<joint name="jLeftKnee_roty" type="revolute">
        <origin xyz="0 0 0" rpy="0 0 0"/>
        <parent link="LeftLowerLeg_f1"/>
        <child link="LeftLowerLeg_f2"/>
        <dynamics damping="0.1" friction="0.0"/>
        <limit effort="30" velocity="1.0" lower="-10.0" upper="10.0" />
        <axis xyz="0 1 0" />
    </joint>
    <joint name="jLeftKnee_rotz" type="revolute">
        <origin xyz="0 0 0" rpy="0 0 0"/>
        <parent link="LeftLowerLeg_f2"/>
        <child link="LeftLowerLeg"/>
        <dynamics damping="0.1" friction="0.0"/>
        <limit effort="30" velocity="1.0" lower="-10.0" upper="10.0" />
        <axis xyz="0 0 1" />
    </joint>
	<joint name="jLeftAnkle_rotx" type="revolute">
        <origin xyz="-0.000373           0    -0.42811" rpy="0 0 0"/>
        <parent link="LeftLowerLeg"/>
        <child link="LeftFoot_f1"/>
        <dynamics damping="0.1" friction="0.0"/>
        <limit effort="30" velocity="1.0" lower="-10.0" upper="10.0" />
        <axis xyz="1 0 0" />
    </joint>
	<joint name="jLeftAnkle_roty" type="revolute">
        <origin xyz="0 0 0" rpy="0 0 0"/>
        <parent link="LeftFoot_f1"/>
        <child link="LeftFoot_f2"/>
        <dynamics damping="0.1" friction="0.0"/>
        <limit effort="30" velocity="1.0" lower="-10.0" upper="10.0" />
        <axis xyz="0 1 0" />
    </joint>
    <joint name="jLeftAnkle_rotz" type="revolute">
        <origin xyz="0 0 0" rpy="0 0 0"/>
        <parent link="LeftFoot_f2"/>
        <child link="LeftFoot"/>
        <dynamics damping="0.1" friction="0.0"/>
        <limit effort="30" velocity="1.0" lower="-10.0" upper="10.0" />
        <axis xyz="0 0 1" />
    </joint>
	<joint name="jLeftBallFoot_rotx" type="revolute">
        <origin xyz="0.13428           0   -0.078689" rpy="0 0 0"/>
        <parent link="LeftFoot"/>
        <child link="LeftToe_f1"/>
        <dynamics damping="0.1" friction="0.0"/>
        <limit effort="30" velocity="1.0" lower="-10.0" upper="10.0" />
        <axis xyz="1 0 0" />
    </joint>
	<joint name="jLeftBallFoot_roty" type="revolute">
        <origin xyz="0 0 0" rpy="0 0 0"/>
        <parent link="LeftToe_f1"/>
        <child link="LeftToe_f2"/>
        <dynamics damping="0.1" friction="0.0"/>
        <limit effort="30" velocity="1.0" lower="-10.0" upper="10.0" />
        <axis xyz="0 1 0" />
    </joint>
    <joint name="jLeftBallFoot_rotz" type="revolute">
        <origin xyz="0 0 0" rpy="0 0 0"/>
        <parent link="LeftToe_f2"/>
        <child link="LeftToe"/>
        <dynamics damping="0.1" friction="0.0"/>
        <limit effort="30" velocity="1.0" lower="-10.0" upper="10.0" />
        <axis xyz="0 0 1" />
    </joint>

	<!-- Sensor  1-->
<sensor name="Pelvis_gyro" type="gyroscope">
<parent link="Pelvis"/>
<origin xyz="-0.056413  0.00035913    0.093475" rpy="0.12075      1.0472      -3.004"/>
</sensor>
<sensor name="Pelvis_accelerometer" type="accelerometer">
<parent link="Pelvis"/>
<origin xyz="-0.056413  0.00035913    0.093475" rpy="0.12075      1.0472      -3.004"/>
</sensor>
<!-- Sensor  2-->
<sensor name="T8_gyro" type="gyroscope">
<parent link="T8"/>
<origin xyz="0.12909  9.5625e-05    0.070993" rpy="-0.13395      1.0496    -0.17832"/>
</sensor>
<sensor name="T8_accelerometer" type="accelerometer">
<parent link="T8"/>
<origin xyz="0.12909  9.5625e-05    0.070993" rpy="-0.13395      1.0496    -0.17832"/>
</sensor>
<!-- Sensor  3-->
<sensor name="Head_gyro" type="gyroscope">
<parent link="Head"/>
<origin xyz="-0.064582 -0.00015796    0.071065" rpy="2.564    -0.09408     -1.5942"/>
</sensor>
<sensor name="Head_accelerometer" type="accelerometer">
<parent link="Head"/>
<origin xyz="-0.064582 -0.00015796    0.071065" rpy="2.564    -0.09408     -1.5942"/>
</sensor>
<!-- Sensor  4-->
<sensor name="RightShoulder_gyro" type="gyroscope">
<parent link="RightShoulder"/>
<origin xyz="-0.018298   -0.045712   -0.054845" rpy="0.86405    -0.14356    -0.96612"/>
</sensor>
<sensor name="RightShoulder_accelerometer" type="accelerometer">
<parent link="RightShoulder"/>
<origin xyz="-0.018298   -0.045712   -0.054845" rpy="0.86405    -0.14356    -0.96612"/>
</sensor>
<!-- Sensor  5-->
<sensor name="RightUpperArm_gyro" type="gyroscope">
<parent link="RightUpperArm"/>
<origin xyz="-0.018782   -0.093814    0.018734" rpy="-0.35499   0.0065525     -1.4919"/>
</sensor>
<sensor name="RightUpperArm_accelerometer" type="accelerometer">
<parent link="RightUpperArm"/>
<origin xyz="-0.018782   -0.093814    0.018734" rpy="-0.35499   0.0065525     -1.4919"/>
</sensor>
<!-- Sensor  6-->
<sensor name="RightForeArm_gyro" type="gyroscope">
<parent link="RightForeArm"/>
<origin xyz="0.0016831    -0.18854    0.018882" rpy="-0.86721   -0.036496     -1.4228"/>
</sensor>
<sensor name="RightForeArm_accelerometer" type="accelerometer">
<parent link="RightForeArm"/>
<origin xyz="0.0016831    -0.18854    0.018882" rpy="-0.86721   -0.036496     -1.4228"/>
</sensor>
<!-- Sensor  7-->
<sensor name="RightHand_gyro" type="gyroscope">
<parent link="RightHand"/>
<origin xyz="1.3405e-05    -0.05189    0.018901" rpy="-0.22076   -0.079589     -1.7793"/>
</sensor>
<sensor name="RightHand_accelerometer" type="accelerometer">
<parent link="RightHand"/>
<origin xyz="1.3405e-05    -0.05189    0.018901" rpy="-0.22076   -0.079589     -1.7793"/>
</sensor>
<!-- Sensor  8-->
<sensor name="LeftShoulder_gyro" type="gyroscope">
<parent link="LeftShoulder"/>
<origin xyz="-0.018333    0.045801   -0.054888" rpy="-0.99215    -0.17215      1.1717"/>
</sensor>
<sensor name="LeftShoulder_accelerometer" type="accelerometer">
<parent link="LeftShoulder"/>
<origin xyz="-0.018333    0.045801   -0.054888" rpy="-0.99215    -0.17215      1.1717"/>
</sensor>
<!-- Sensor  9-->
<sensor name="LeftUpperArm_gyro" type="gyroscope">
<parent link="LeftUpperArm"/>
<origin xyz="-0.018809    0.093827    0.018737" rpy="0.11731   -0.096587      1.5622"/>
</sensor>
<sensor name="LeftUpperArm_accelerometer" type="accelerometer">
<parent link="LeftUpperArm"/>
<origin xyz="-0.018809    0.093827    0.018737" rpy="0.11731   -0.096587      1.5622"/>
</sensor>
<!-- Sensor  10-->
<sensor name="LeftForeArm_gyro" type="gyroscope">
<parent link="LeftForeArm"/>
<origin xyz="0.001667     0.18853    0.018842" rpy="0.14484   -0.057021      1.3172"/>
</sensor>
<sensor name="LeftForeArm_accelerometer" type="accelerometer">
<parent link="LeftForeArm"/>
<origin xyz="0.001667     0.18853    0.018842" rpy="0.14484   -0.057021      1.3172"/>
</sensor>
<!-- Sensor  11-->
<sensor name="LeftHand_gyro" type="gyroscope">
<parent link="LeftHand"/>
<origin xyz="0.00015884    0.051839    0.018943" rpy="-0.32298     0.31766      2.0779"/>
</sensor>
<sensor name="LeftHand_accelerometer" type="accelerometer">
<parent link="LeftHand"/>
<origin xyz="0.00015884    0.051839    0.018943" rpy="-0.32298     0.31766      2.0779"/>
</sensor>
<!-- Sensor  12-->
<sensor name="RightUpperLeg_gyro" type="gyroscope">
<parent link="RightUpperLeg"/>
<origin xyz="0.011771   -0.035456    -0.24709" rpy="2.9681      1.3016      1.6973"/>
</sensor>
<sensor name="RightUpperLeg_accelerometer" type="accelerometer">
<parent link="RightUpperLeg"/>
<origin xyz="0.011771   -0.035456    -0.24709" rpy="2.9681      1.3016      1.6973"/>
</sensor>
<!-- Sensor  13-->
<sensor name="RightLowerLeg_gyro" type="gyroscope">
<parent link="RightLowerLeg"/>
<origin xyz="0.03243   0.0071239    -0.13919" rpy="-1.0656      1.4974    -0.36534"/>
</sensor>
<sensor name="RightLowerLeg_accelerometer" type="accelerometer">
<parent link="RightLowerLeg"/>
<origin xyz="0.03243   0.0071239    -0.13919" rpy="-1.0656      1.4974    -0.36534"/>
</sensor>
<!-- Sensor  14-->
<sensor name="RightFoot_gyro" type="gyroscope">
<parent link="RightFoot"/>
<origin xyz="0.076573   0.0010386   -0.010818" rpy="0.20674     0.56982    -0.08221"/>
</sensor>
<sensor name="RightFoot_accelerometer" type="accelerometer">
<parent link="RightFoot"/>
<origin xyz="0.076573   0.0010386   -0.010818" rpy="0.20674     0.56982    -0.08221"/>
</sensor>
<!-- Sensor  15-->
<sensor name="LeftUpperLeg_gyro" type="gyroscope">
<parent link="LeftUpperLeg"/>
<origin xyz="0.01184    0.043533    -0.24573" rpy="0.78026      1.3256    -0.76828"/>
</sensor>
<sensor name="LeftUpperLeg_accelerometer" type="accelerometer">
<parent link="LeftUpperLeg"/>
<origin xyz="0.01184    0.043533    -0.24573" rpy="0.78026      1.3256    -0.76828"/>
</sensor>
<!-- Sensor  16-->
<sensor name="LeftLowerLeg_gyro" type="gyroscope">
<parent link="LeftLowerLeg"/>
<origin xyz="0.032437  -0.0075715    -0.13922" rpy="0.85495      1.4657     0.87174"/>
</sensor>
<sensor name="LeftLowerLeg_accelerometer" type="accelerometer">
<parent link="LeftLowerLeg"/>
<origin xyz="0.032437  -0.0075715    -0.13922" rpy="0.85495      1.4657     0.87174"/>
</sensor>
<!-- Sensor  17-->
<sensor name="LeftFoot_gyro" type="gyroscope">
<parent link="LeftFoot"/>
<origin xyz="0.076547  -0.0011043    -0.01111" rpy="-0.13322     0.79952     0.17858"/>
</sensor>
<sensor name="LeftFoot_accelerometer" type="accelerometer">
<parent link="LeftFoot"/>
<origin xyz="0.076547  -0.0011043    -0.01111" rpy="-0.13322     0.79952     0.17858"/>
</sensor>


</robot>
